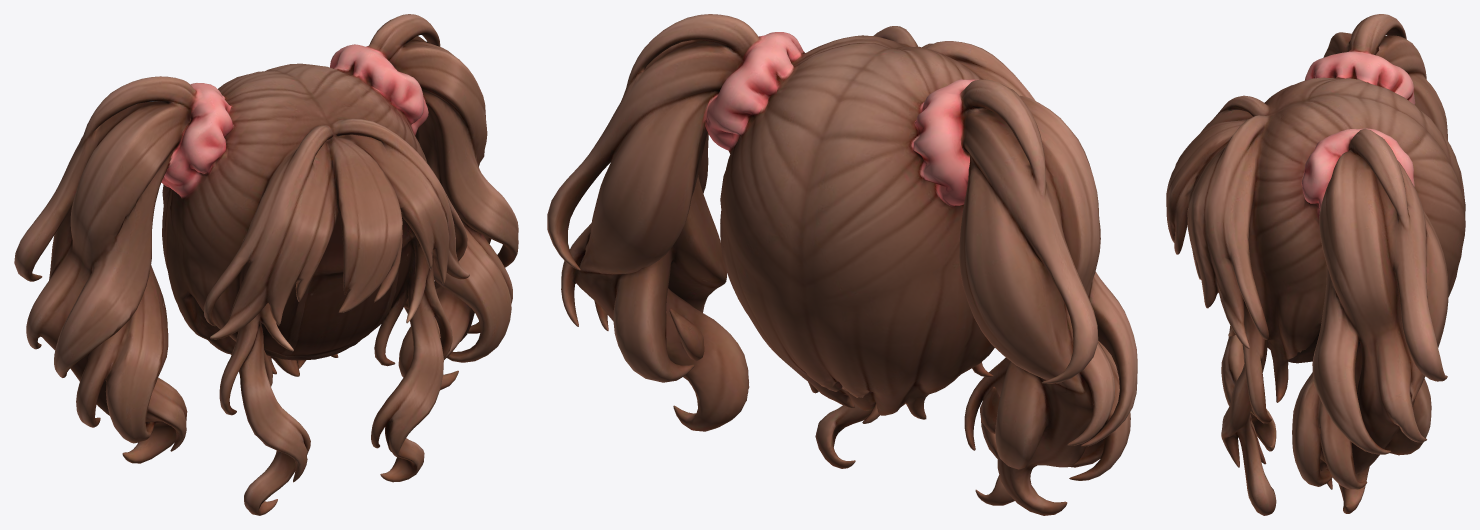
Rendered from hair-pigtails.glb.
3 views of the same model, side by side, from view 1: azimuth 30°, elevation 25°; view 2: azimuth 150°, elevation 25°; view 3: azimuth 270°, elevation 25° (orthographic). The views are drawn at different scales.
Parts seen in each view (by area): view 1: tripo_node_d49d0ddc; view 2: tripo_node_d49d0ddc; view 3: tripo_node_d49d0ddc.
Boxes of the visible parts, x1,y1,x2,y2 form: tripo_node_d49d0ddc: (14, 14, 518, 515); tripo_node_d49d0ddc: (547, 14, 1137, 515); tripo_node_d49d0ddc: (1166, 14, 1465, 515).
Size of the model in its own units: 97.71 by 82.29 by 55.12.
Materials: 1 (1 with a texture image).
